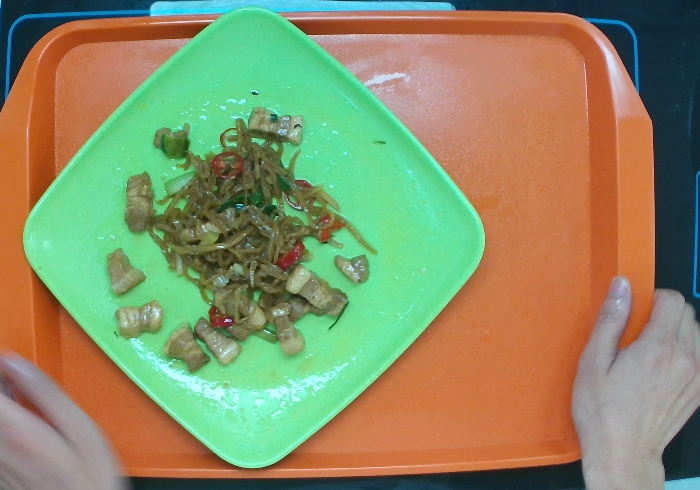ZNLD-Lv_Fang_Pan: (20, 5, 486, 470)
